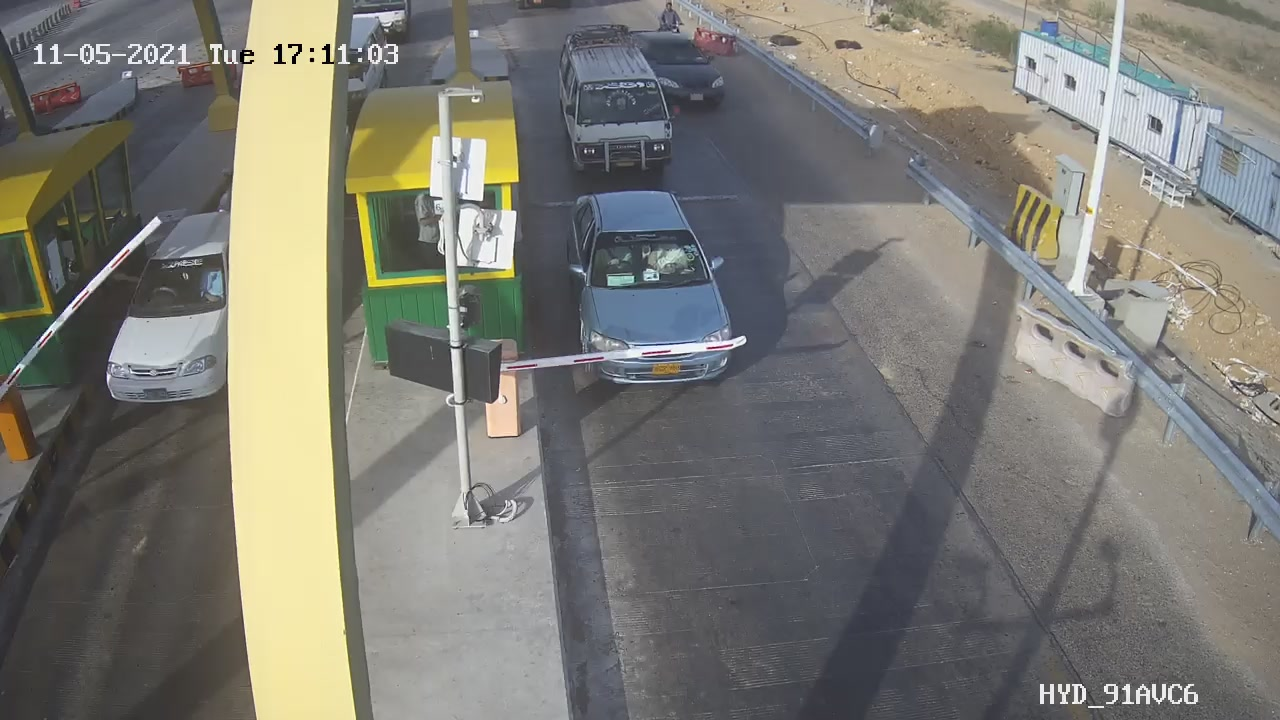F1: (565, 185, 745, 391)
F2: (538, 11, 689, 194)
